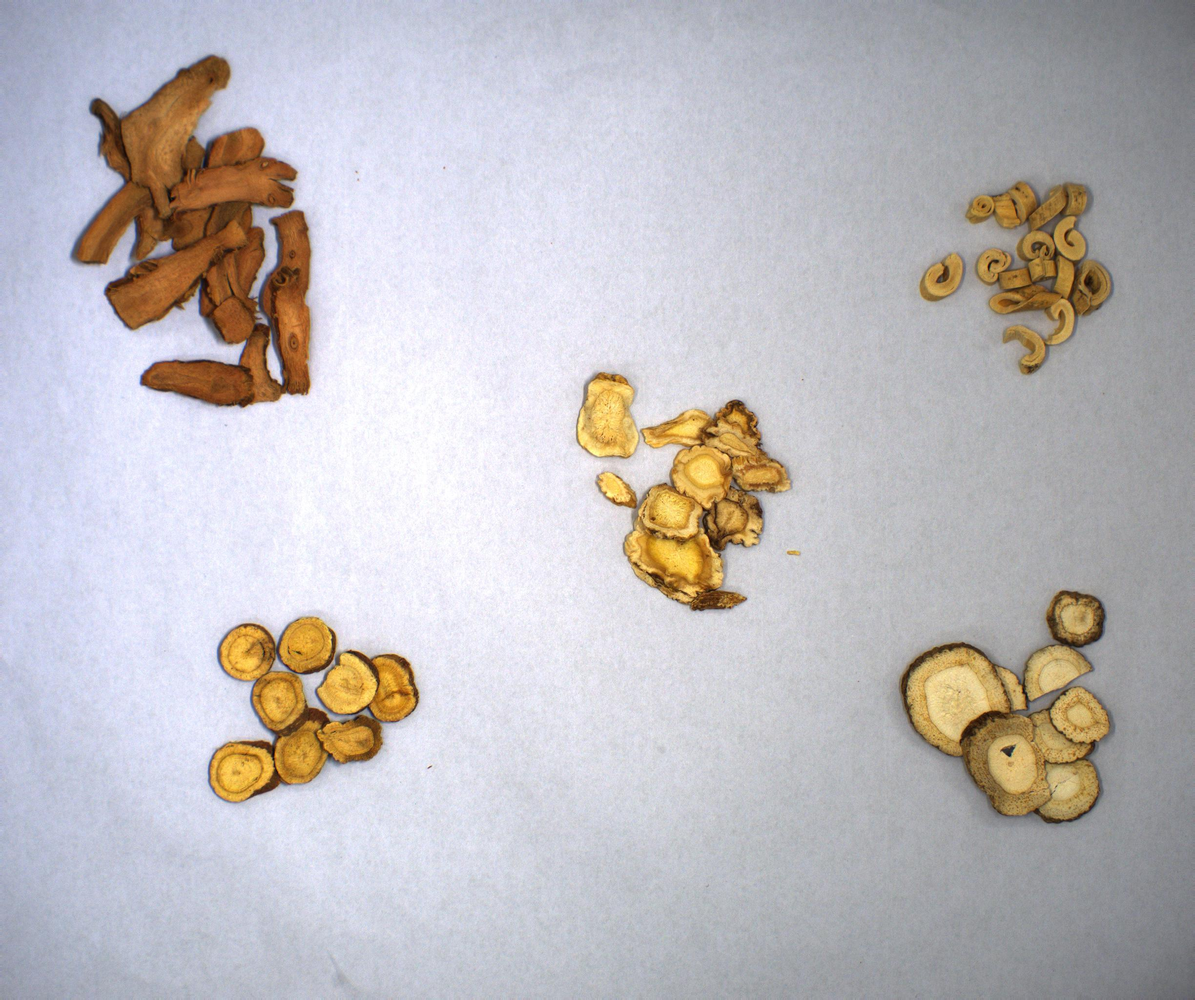baixianpi: (910, 173, 1120, 385)
baizhi: (889, 586, 1124, 828)
gancaopian: (203, 609, 425, 809)
gaoliangjiang: (68, 53, 321, 410)
jiegeng: (571, 361, 790, 624)
